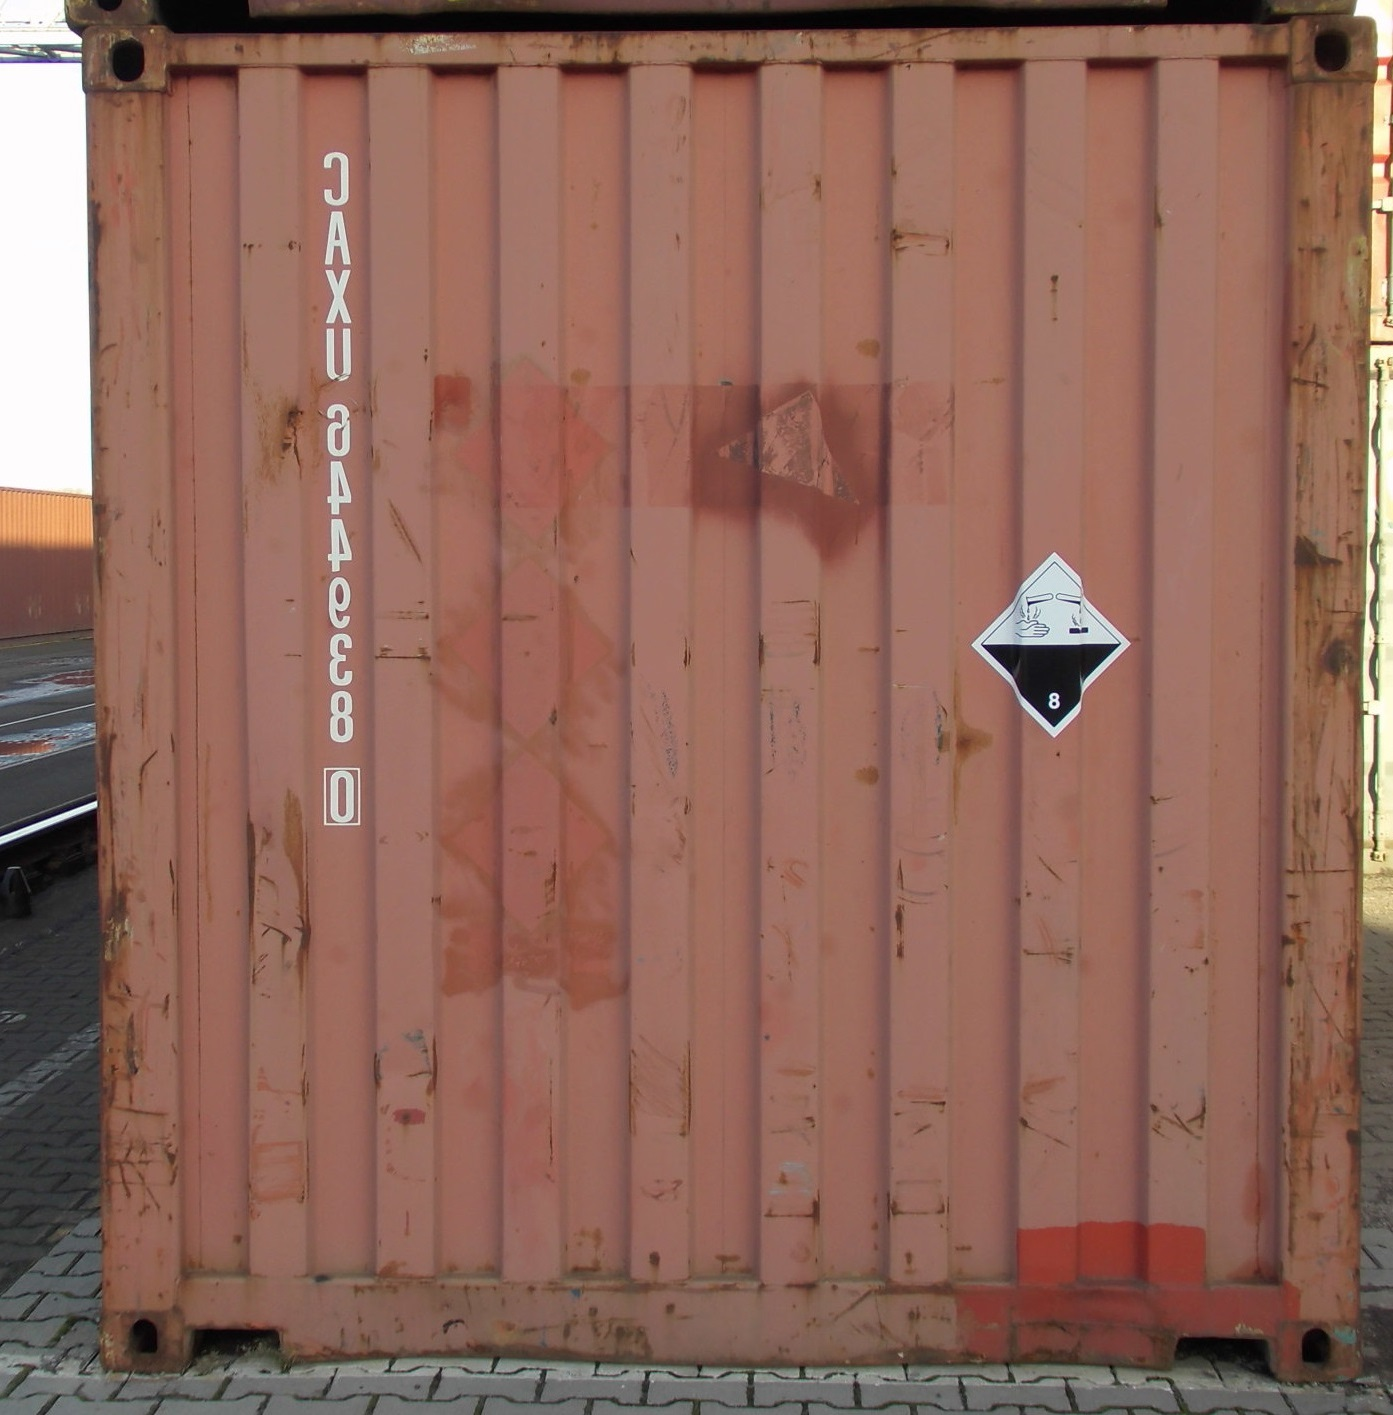container_no_door: (99, 23, 1374, 1358)
